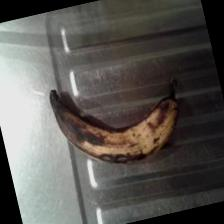Banana Rotten: (33, 50, 200, 182)
